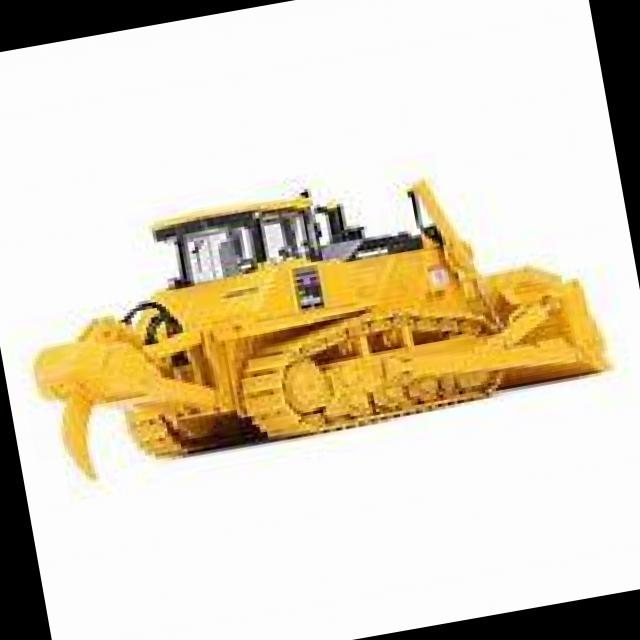Bulldozer: (0, 127, 633, 492)
